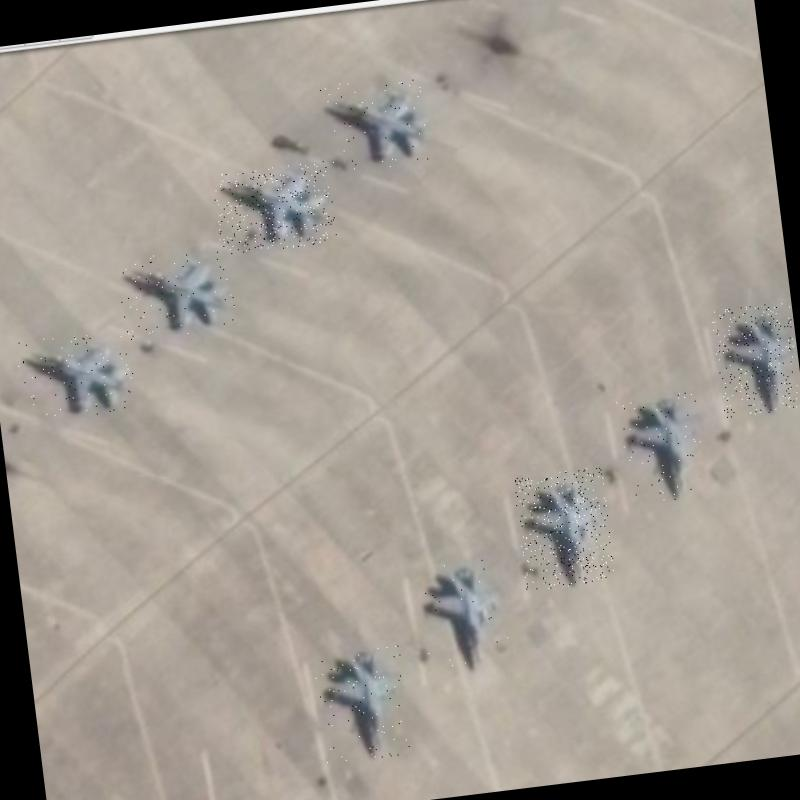A16: (512, 466, 615, 591), (312, 638, 412, 764), (211, 160, 337, 256), (319, 72, 437, 174), (412, 556, 512, 676), (14, 327, 137, 423), (116, 246, 238, 341), (616, 390, 708, 505), (710, 301, 800, 418)
